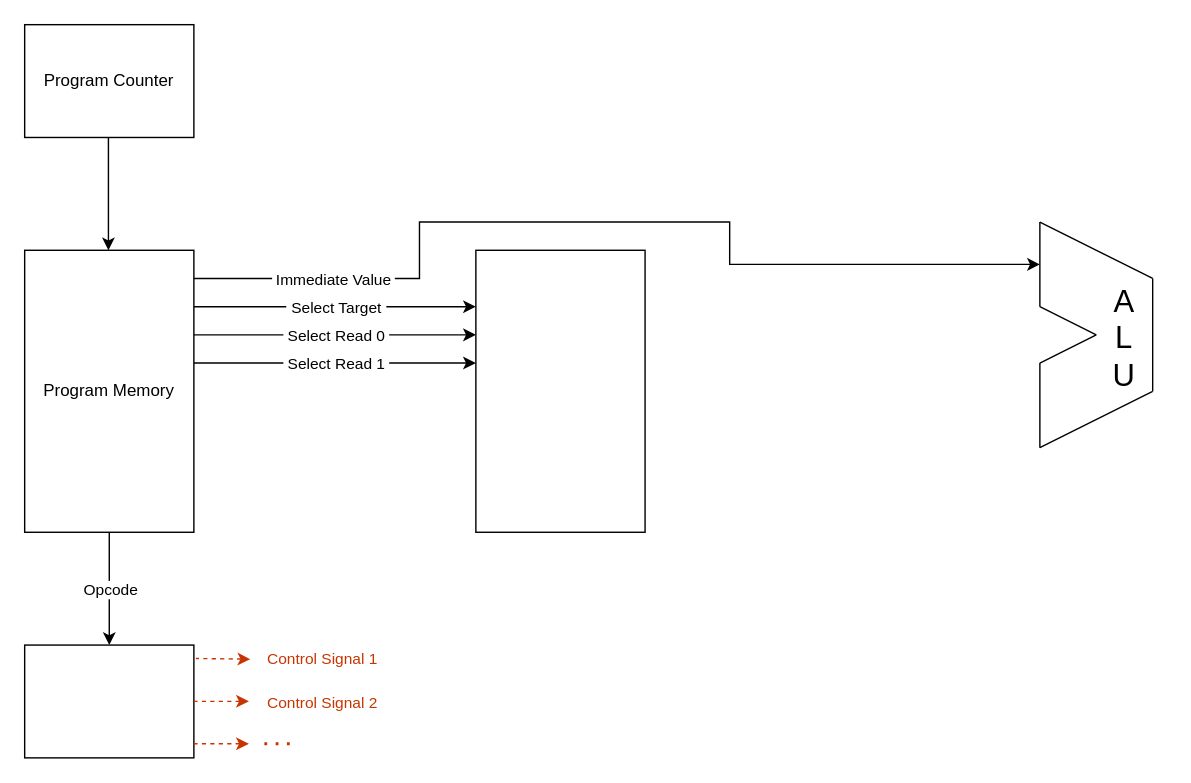
The diagram is 1191 pixels wide and 783 high, and some of its shapes have lost their labels. Here are the shapes that lost their labels. From the top down, the centre of each, then its label:
point 559,390: Register File
point 108,701: Control Signal Memory
